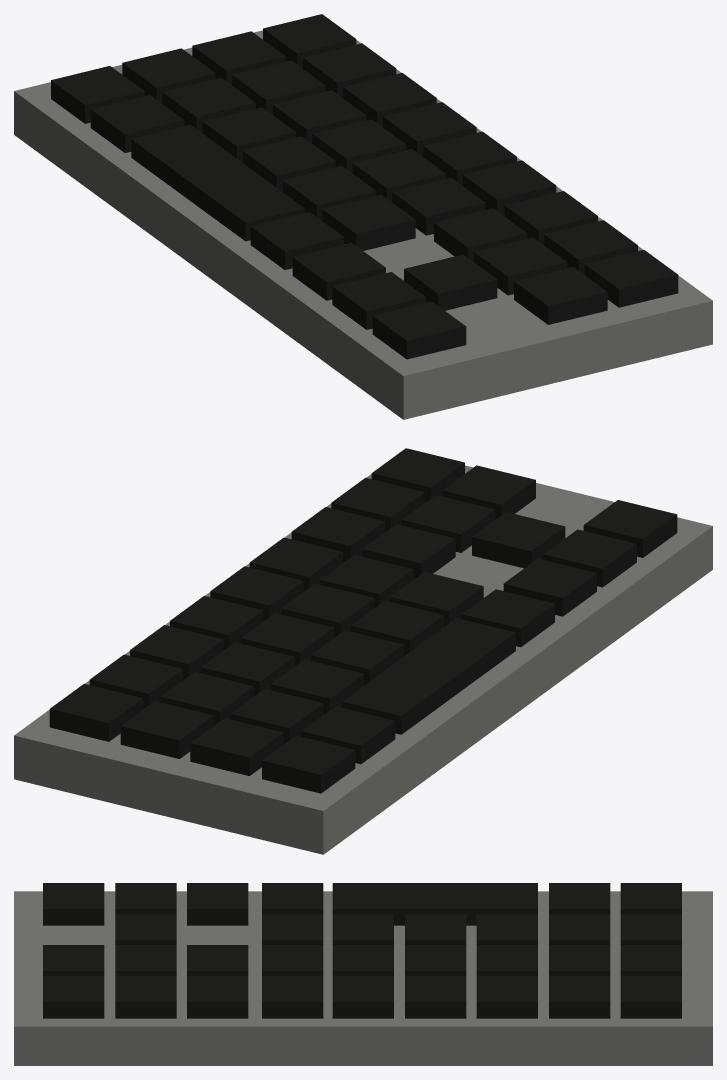
File: Keyboard.fbx
3 views of the same model, one above another, from view 1: azimuth 30°, elevation 25°; view 2: azimuth 150°, elevation 25°; view 3: azimuth 270°, elevation 25° (orthographic). The views are drawn at different scales.
Parts seen in each view (by area): view 1: Cube.8162; view 2: Cube.8162; view 3: Cube.8162.
Part boxes in pixels (x1,y1,x2,y2): Cube.8162: (14,14,712,419); Cube.8162: (14,448,712,854); Cube.8162: (14,883,712,1065).
Bounding box in the file's own units: 42.57 × 8.21 × 92.81.
1 material, 1 textured.
